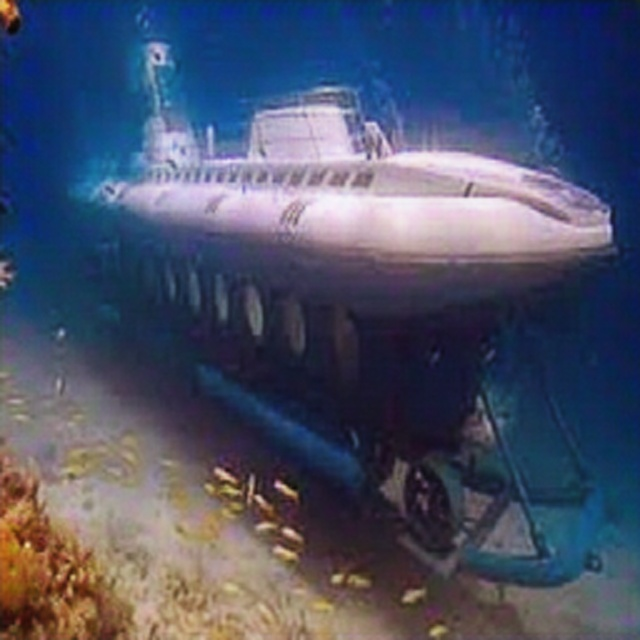submarine: (64, 31, 620, 609)
